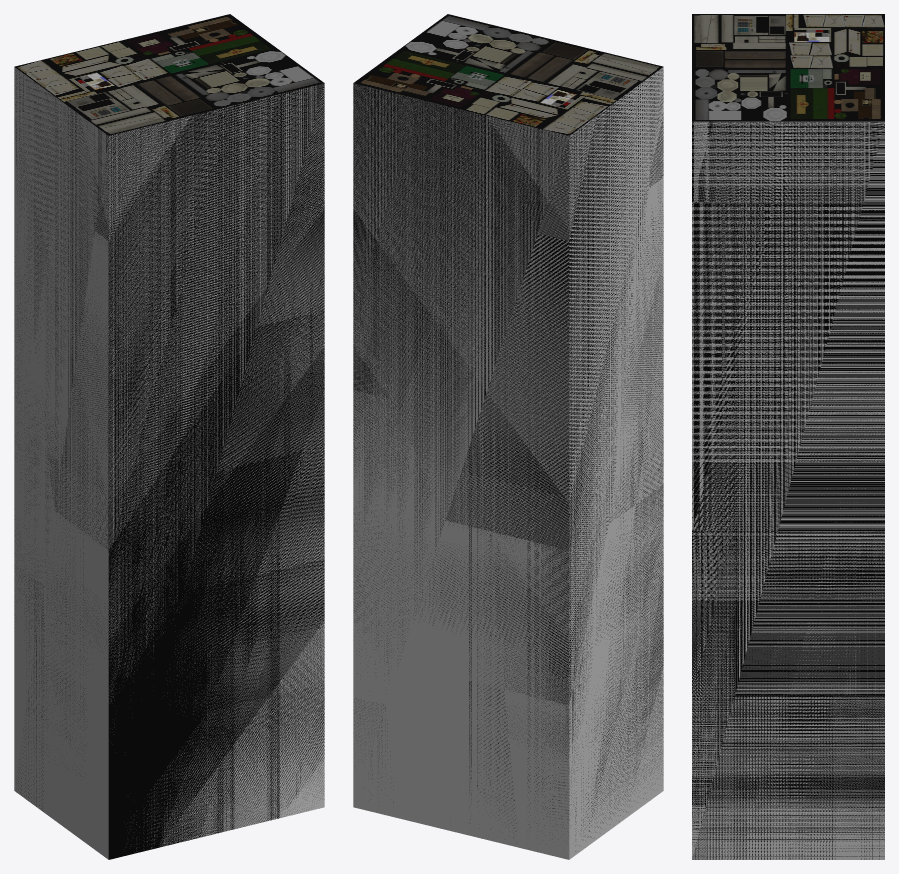
Rendered from bottle_01.DAE.
3 renders of one model, left to right at view 1: azimuth 30°, elevation 25°; view 2: azimuth 150°, elevation 25°; view 3: azimuth 270°, elevation 25°, orthographic.
Parts seen in each view (by area): view 1: colbox-1, bounds; view 2: bounds, colbox-1; view 3: colbox-1, bounds.
Part boxes in pixels (box(x1,y1,x2,y2)): colbox-1: box(14, 14, 324, 859); bounds: box(14, 67, 324, 859); bounds: box(353, 67, 663, 859); colbox-1: box(353, 14, 663, 851); colbox-1: box(692, 14, 884, 859); bounds: box(692, 121, 884, 859).
Bounding box in the file's own units: 15.61 × 11.84 × 50.
